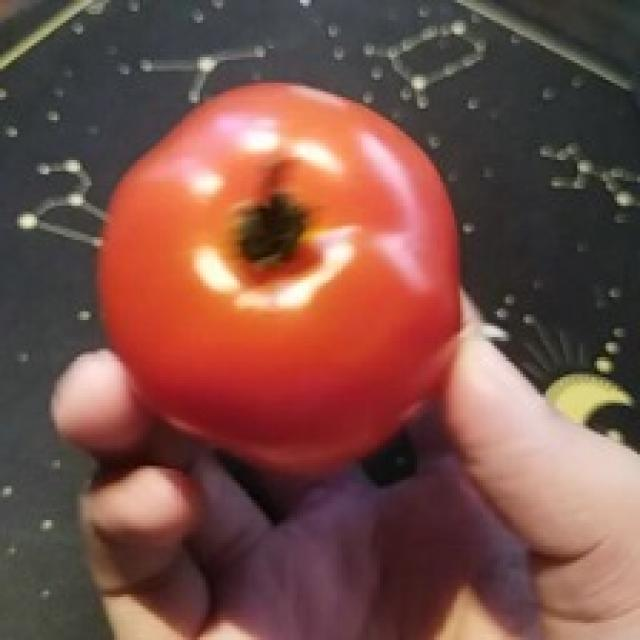tomato: (97, 83, 469, 469)
